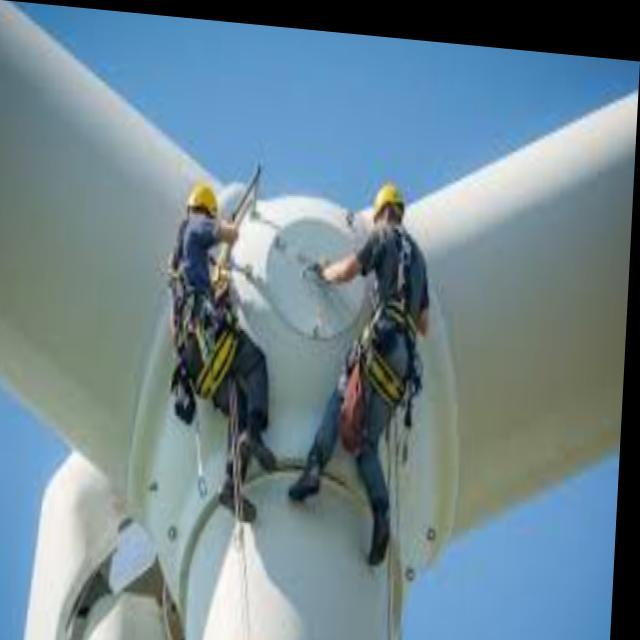hard_hat: (368, 176, 409, 222), (184, 179, 226, 222)
shoes: (281, 440, 398, 572), (216, 421, 279, 528)
